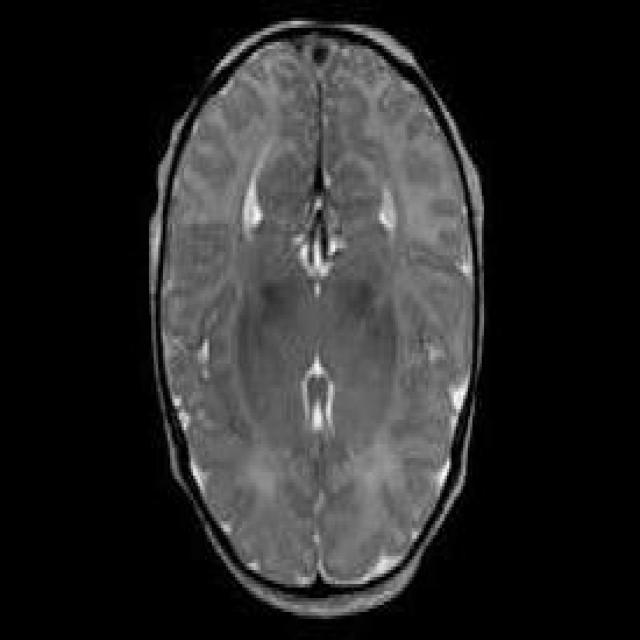notumor: (151, 21, 482, 616)
